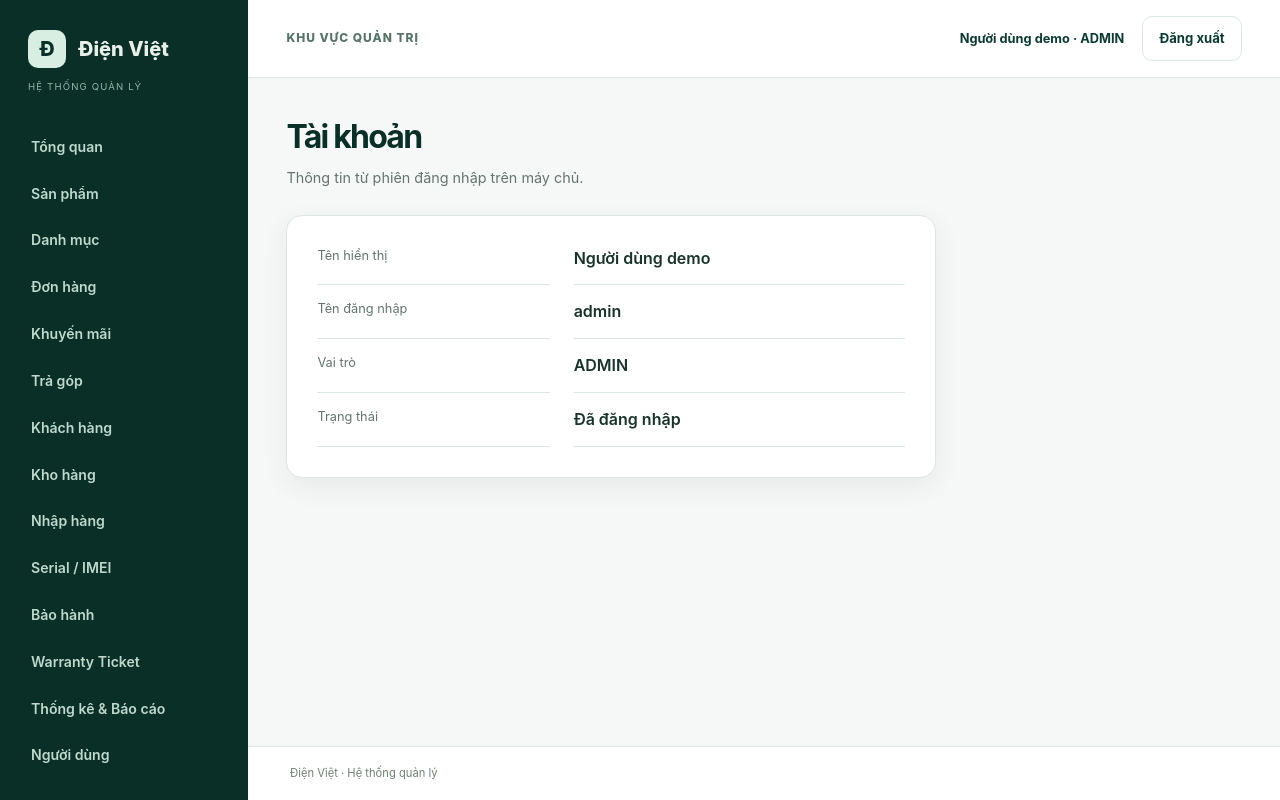
Test: Application routes and role layouts › signs out and protects the account page again
Click the button "Đăng xuất" at (1192, 38), box left=1142, top=16, right=1242, bottom=61
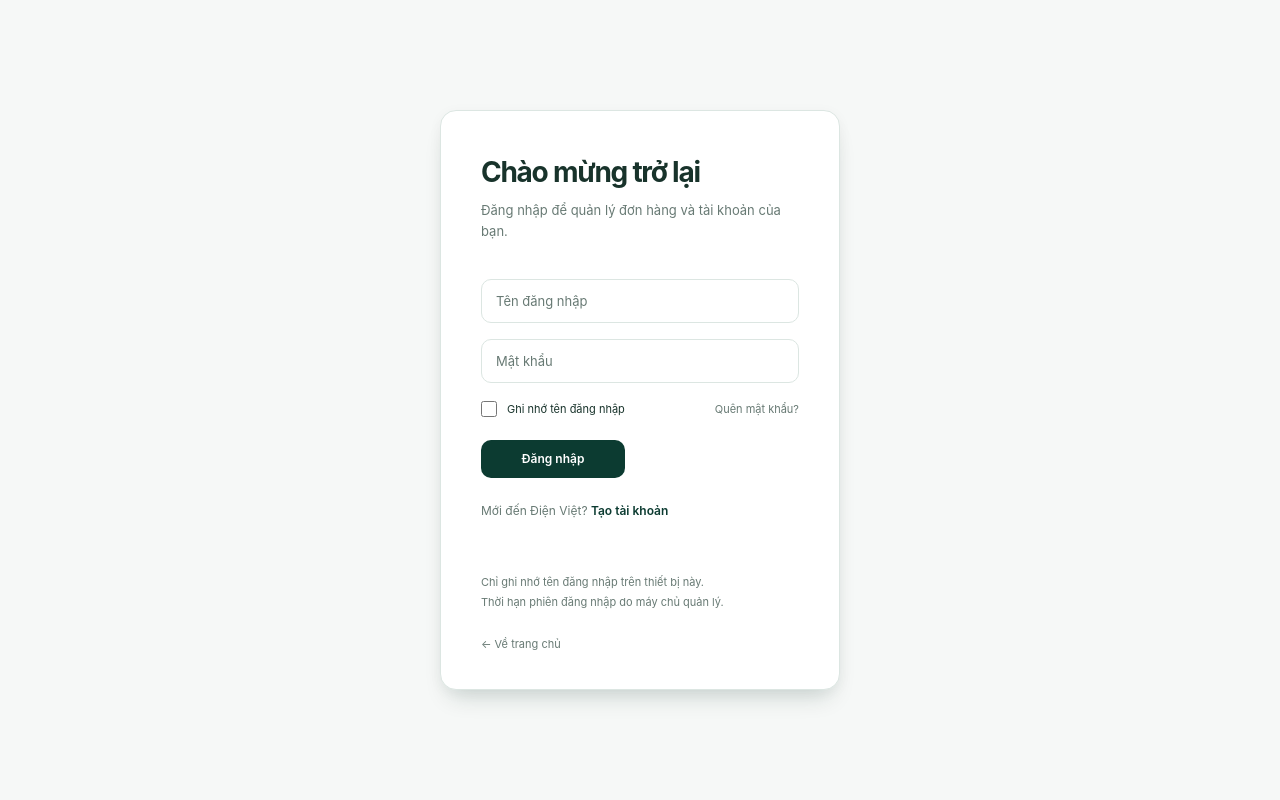
Check: the heading "Chào mừng trở lại" is shown, box left=481, top=155, right=700, bottom=189
